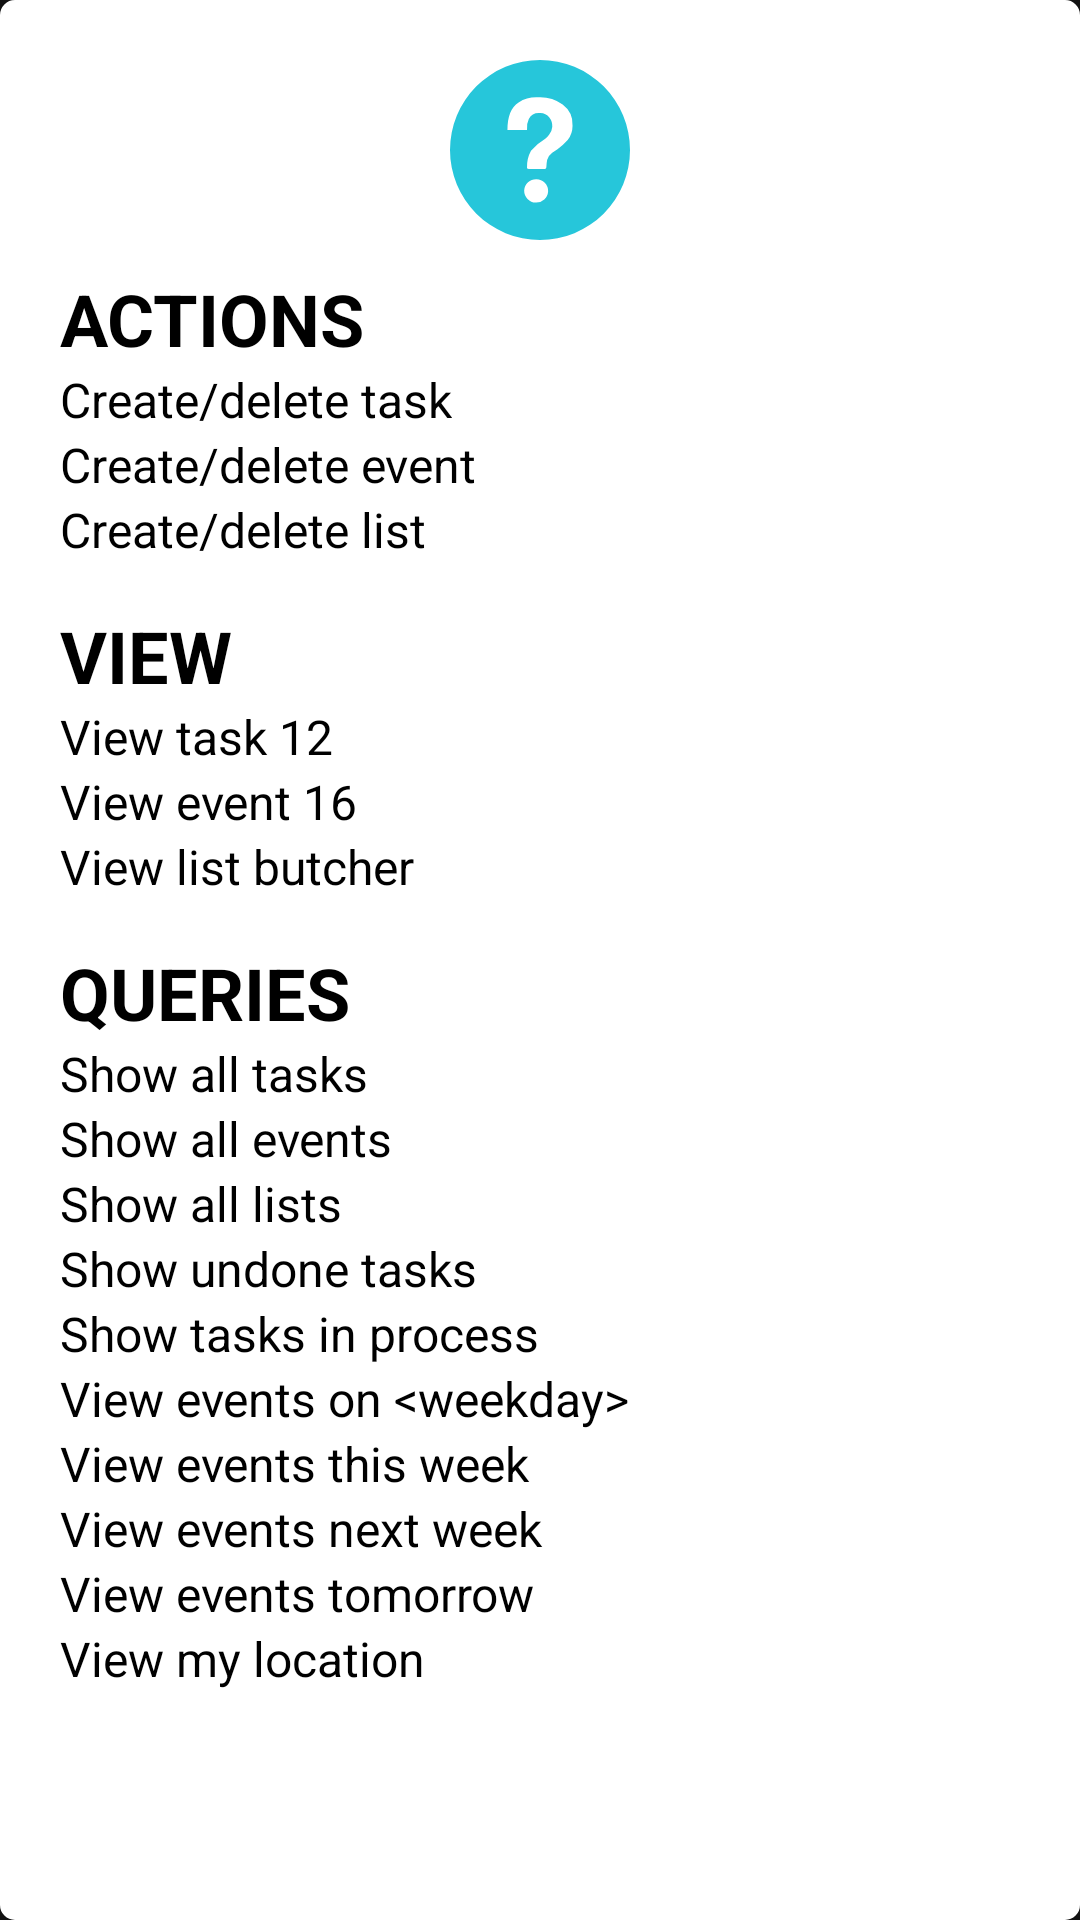

Icons on this 1080×1920 Android screen, each with its box as [x1,y1,x2,y2]:
Pregunta: [450,60,630,240]
